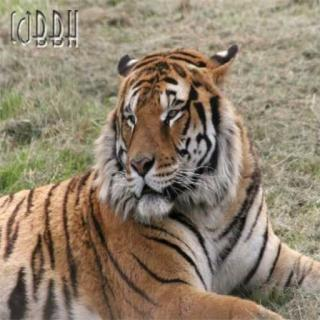Tiger: (0, 44, 318, 320)
